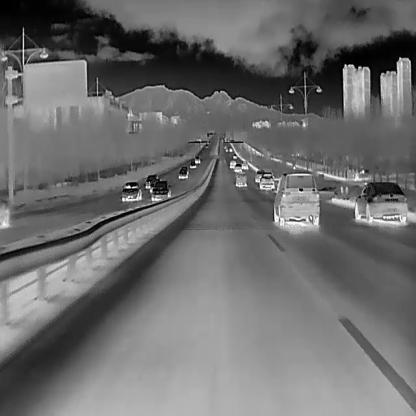car: (272, 171, 319, 226), (353, 181, 407, 223), (120, 180, 142, 201), (150, 181, 171, 200), (258, 173, 275, 190), (233, 171, 247, 186), (145, 173, 158, 188), (148, 179, 162, 192), (253, 168, 264, 182), (178, 169, 187, 178), (233, 164, 241, 173), (240, 160, 248, 169), (228, 159, 236, 168), (180, 165, 188, 173), (189, 161, 196, 168), (194, 155, 200, 163), (231, 153, 236, 158), (228, 146, 232, 151), (224, 148, 228, 152), (223, 145, 227, 149), (205, 143, 208, 148), (208, 140, 211, 144)
